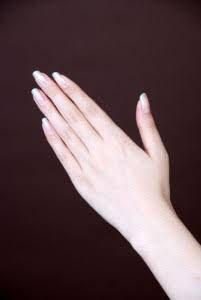hand: (29, 68, 171, 225)
